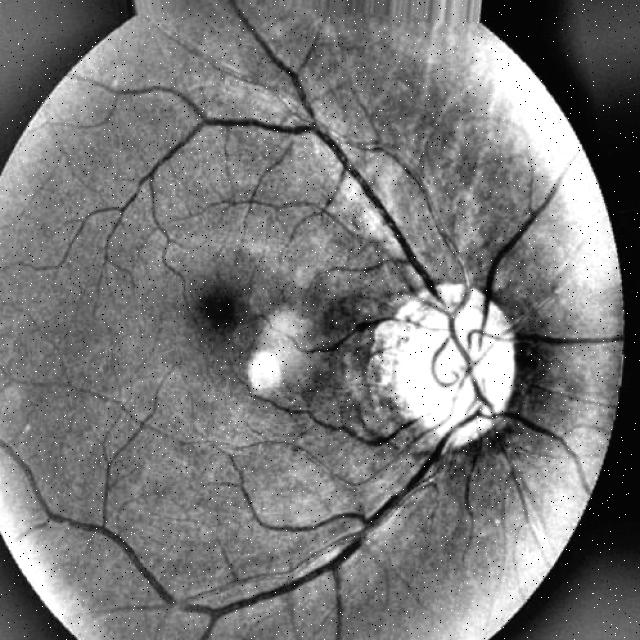Macula: (200, 292, 234, 328)
Nerves: (0, 392, 505, 640), (280, 185, 578, 590), (0, 440, 216, 617), (292, 123, 431, 284), (315, 127, 441, 302), (329, 436, 447, 569), (227, 0, 315, 121), (495, 177, 560, 267), (389, 218, 419, 270), (321, 135, 357, 177), (518, 334, 623, 346), (346, 221, 388, 248), (361, 180, 388, 216), (321, 199, 338, 218)
Optic Disk: (366, 284, 515, 450)
